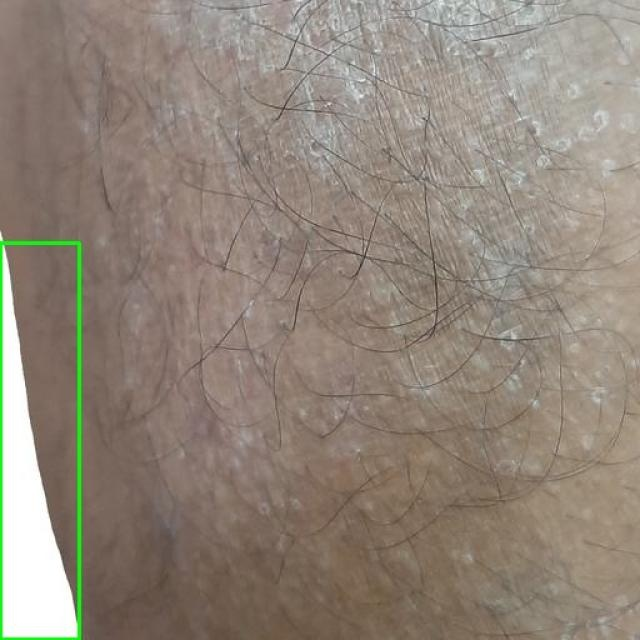Contact Dermatitis: (0, 242, 79, 639)
